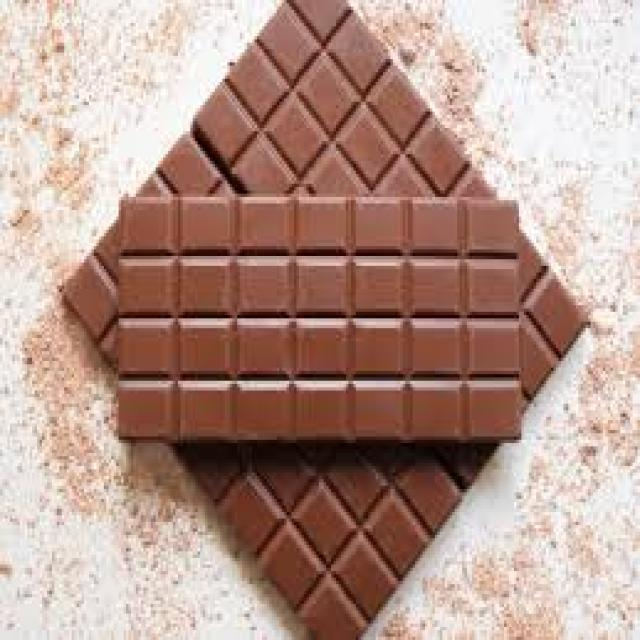Chocolate: (59, 0, 588, 640), (118, 195, 524, 448)
